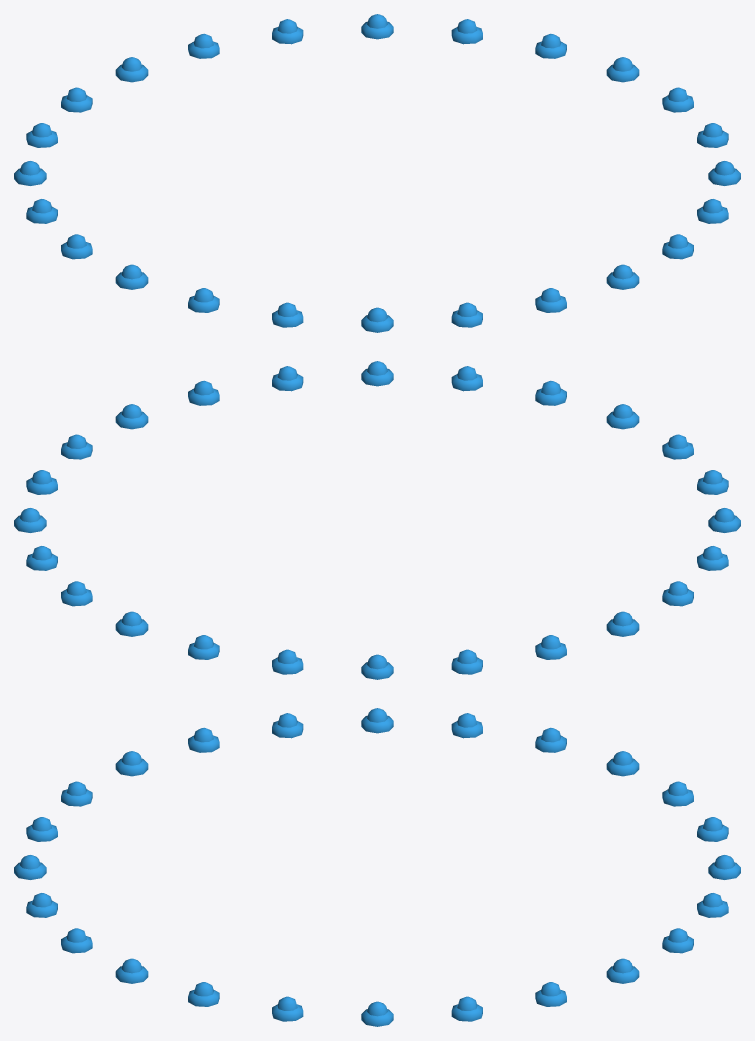
File: Nuts_Joined_SingleRing_FixedNormals.fbx
The picture shows the model from 3 angles, top to bottom: view 1: azimuth 30°, elevation 25°; view 2: azimuth 150°, elevation 25°; view 3: azimuth 270°, elevation 25°; orthographic projection.
Parts seen in each view (by area): view 1: Nut.009; view 2: Nut.009; view 3: Nut.009.
Part boxes in pixels (bbox=[...]): Nut.009: bbox=[14, 14, 740, 332]; Nut.009: bbox=[14, 361, 740, 679]; Nut.009: bbox=[14, 708, 740, 1026].
Bounding box in the file's own units: 86.91 × 2.28 × 86.91.
